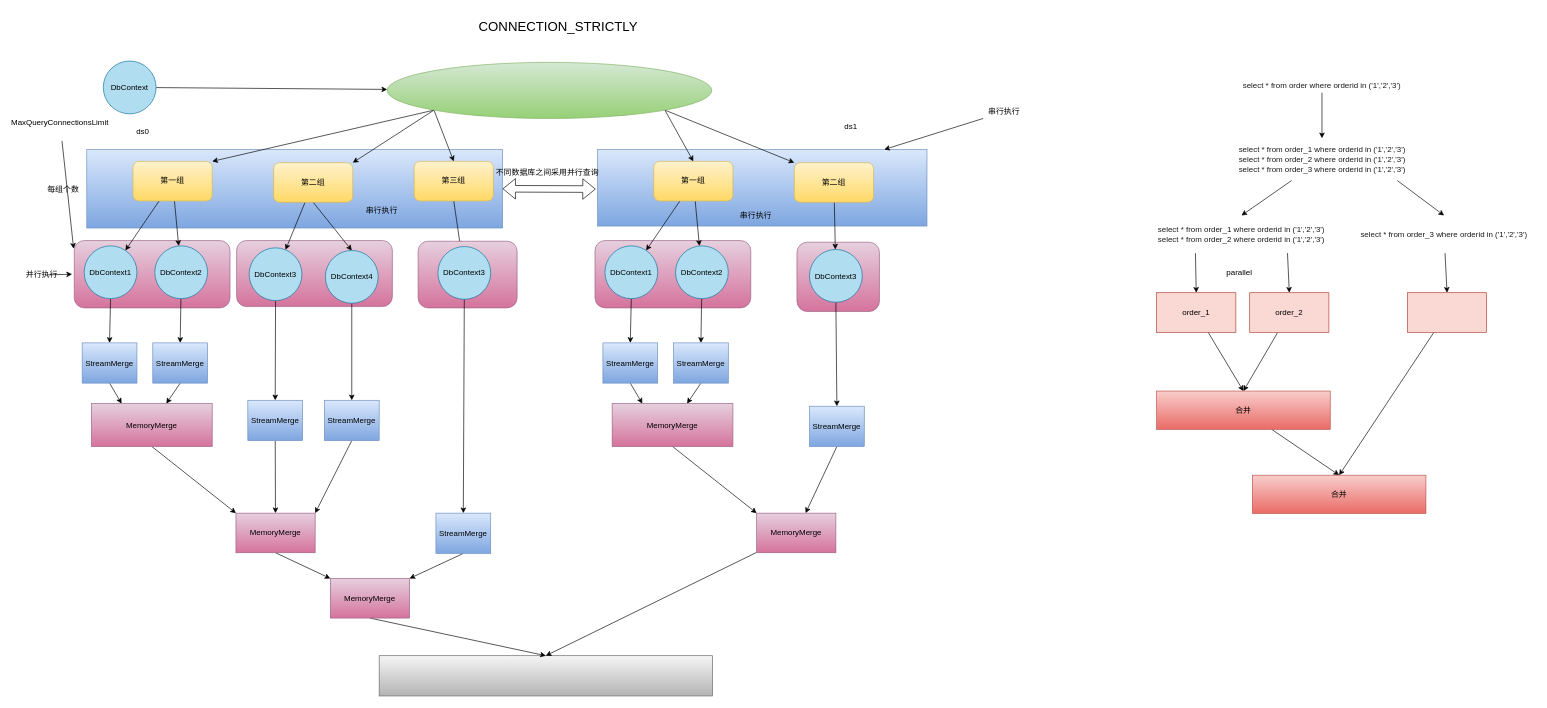
This 1547x708 diagram has some shape labels left out. The shapes that lost their labels are listed below. From the top down, each one's centre as x and y in pixels, then its label:
At point 549,90: "路由".
At point 1447,312: "order_3".
At point 545,675: "各节点内存聚合或者流式聚合".
